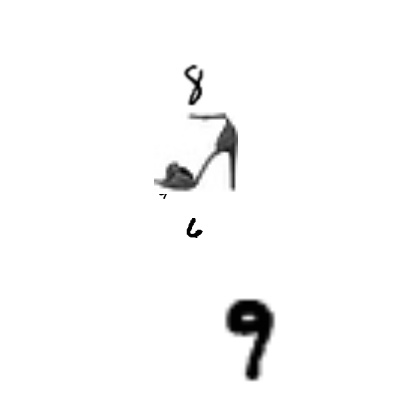6: (179, 215, 207, 243)
8: (166, 57, 222, 113)
9: (194, 272, 306, 384), (157, 186, 171, 200)
Sandal: (154, 110, 238, 194)
